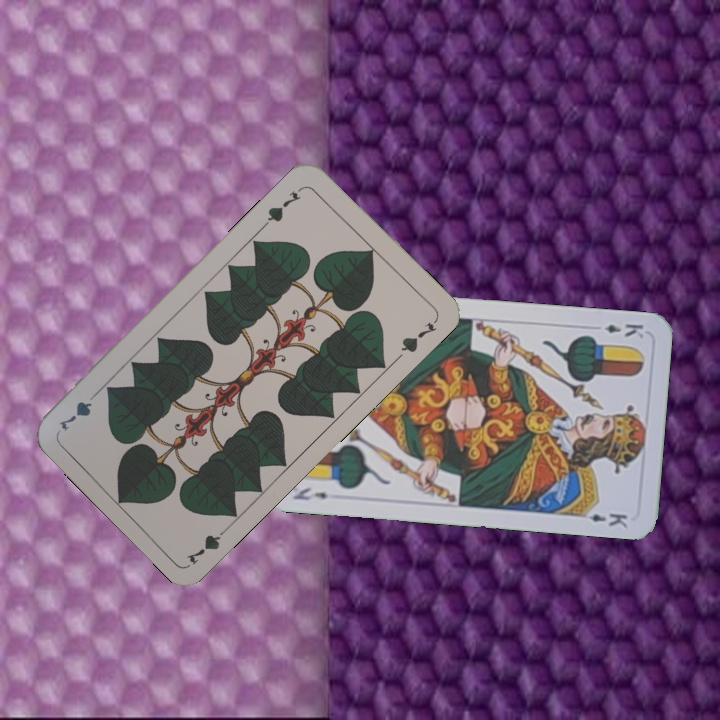EK: (600, 320, 646, 341), (289, 483, 330, 503)
G7: (182, 521, 234, 567), (261, 187, 304, 228)
